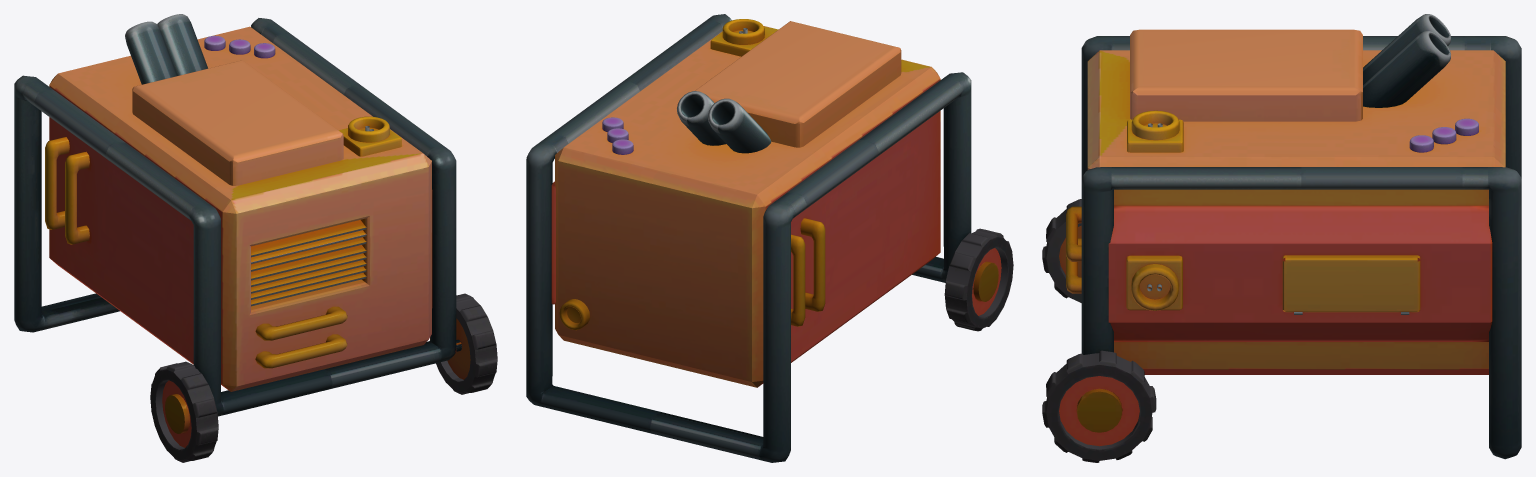
The model's file is MobileGenerator.fbx.
3 views of the same model, side by side, from view 1: azimuth 30°, elevation 25°; view 2: azimuth 150°, elevation 25°; view 3: azimuth 270°, elevation 25° (orthographic). The views are drawn at different scales.
Visible parts, largest first — view 1: SM_MobileGen_MESH; view 2: SM_MobileGen_MESH; view 3: SM_MobileGen_MESH.
Part boxes in pixels (<box>): SM_MobileGen_MESH: <box>14,14,497,462</box>; SM_MobileGen_MESH: <box>526,14,1013,462</box>; SM_MobileGen_MESH: <box>1042,14,1521,462</box>.
Bounding box in the file's own units: 93.08 × 92.78 × 113.
